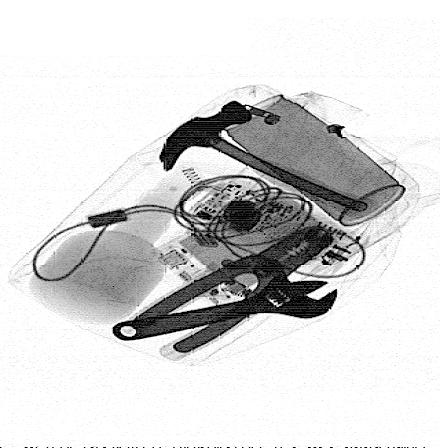Hammer: (159, 101, 379, 221)
Pliers: (113, 223, 336, 361)
Powerbank: (150, 188, 351, 310)
Wrench: (110, 279, 339, 343)
